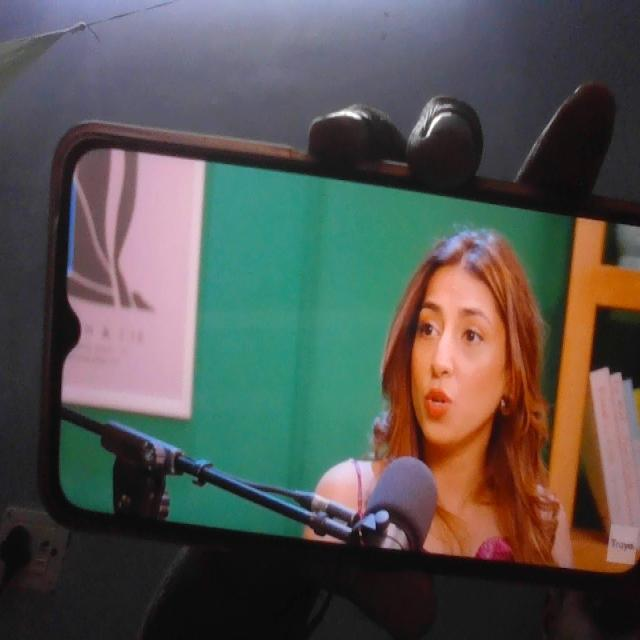fake: (395, 219, 517, 449)
